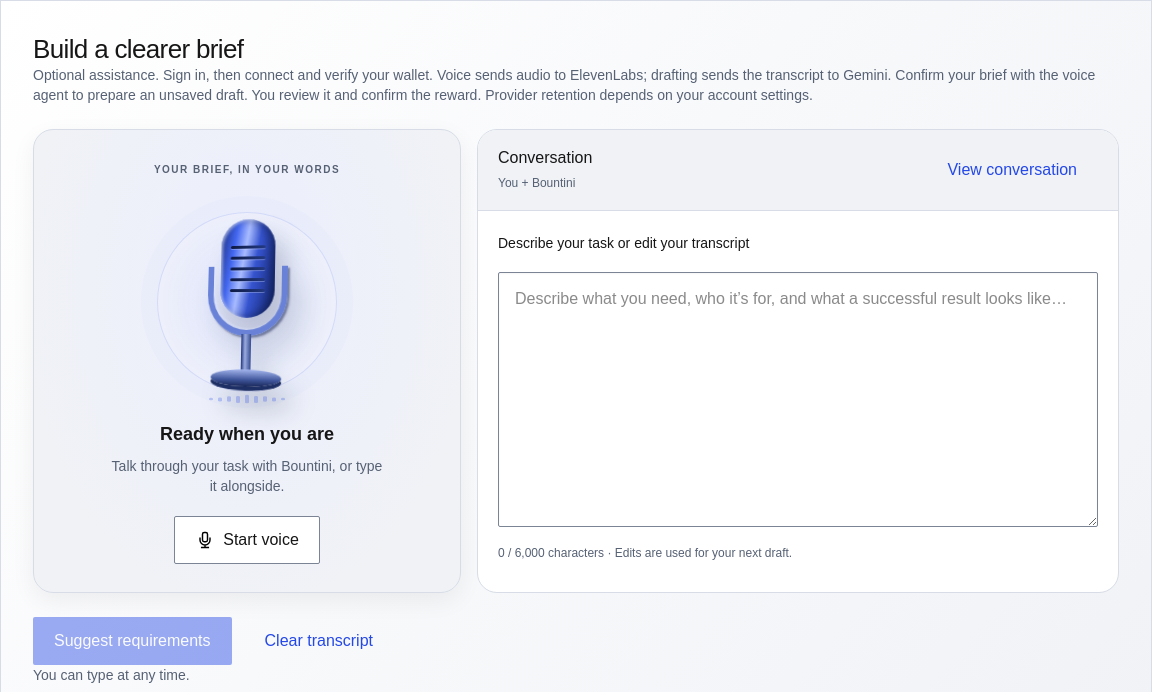
Scenario: rejects an invalid Gemini result before applying it
Click the button "Start voice": click(247, 540) [174,516,320,564]
Wait 1 ms
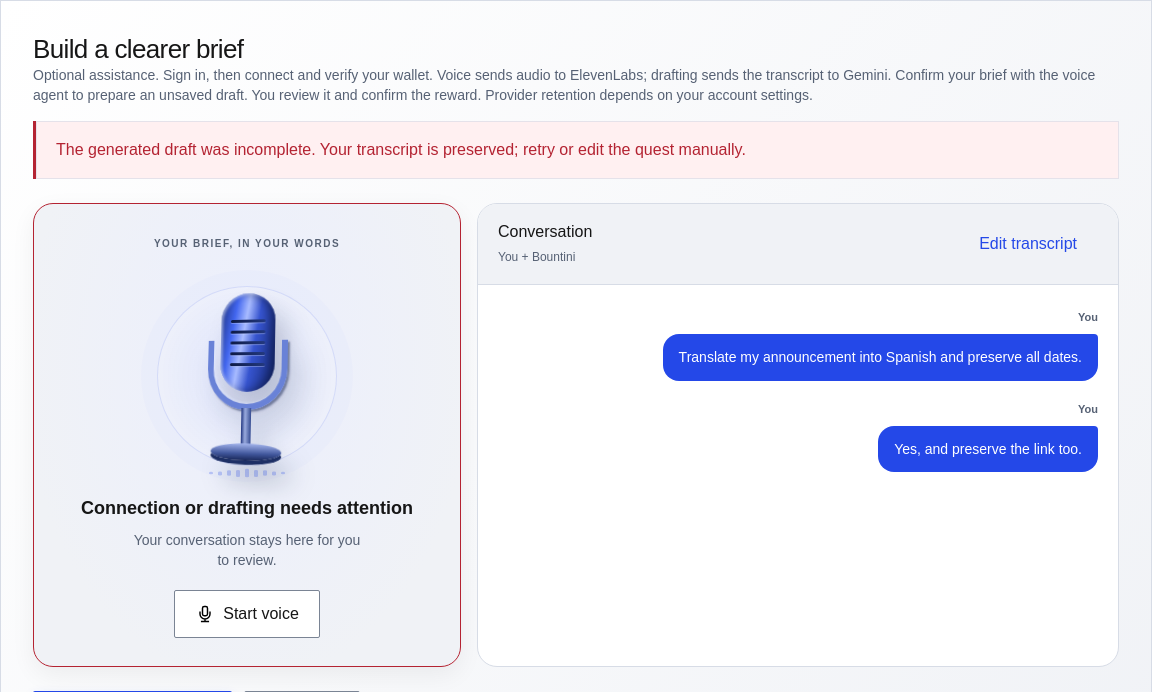
expect the text "generated draft was incomplete" is shown: met, box [56,141,746,158]
